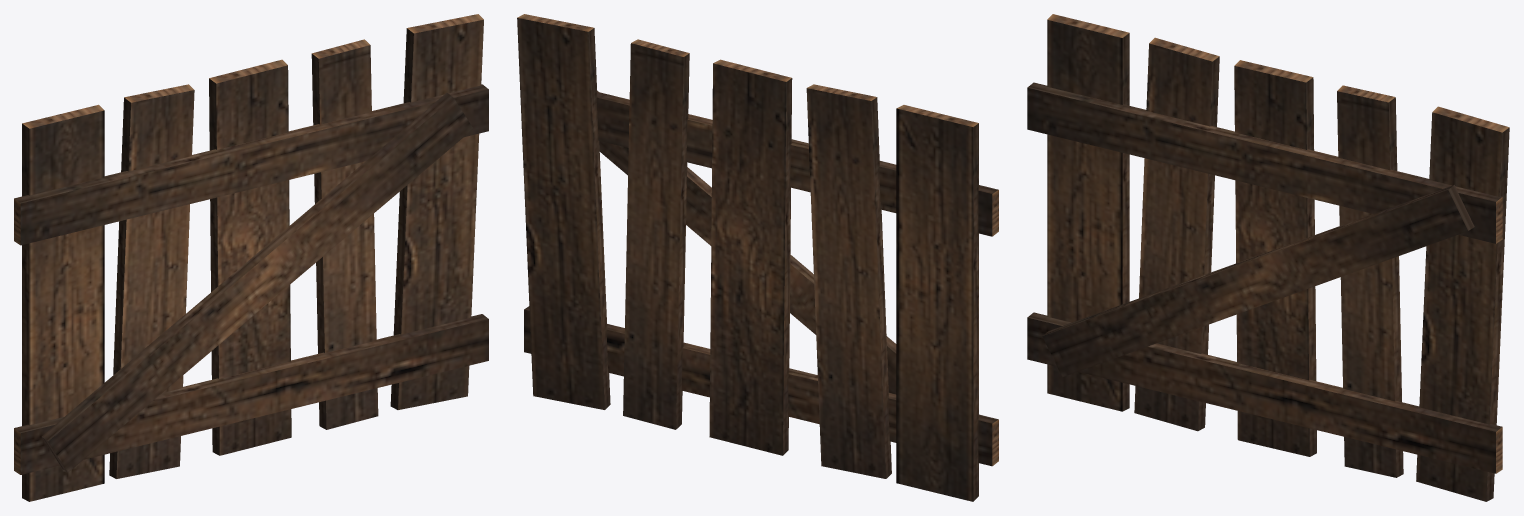
File: wood_fence_1.fbx
The picture shows the model from 3 angles, left to right: view 1: azimuth 30°, elevation 25°; view 2: azimuth 150°, elevation 25°; view 3: azimuth 330°, elevation 25°; orthographic projection.
Visible parts, largest first — view 1: wood_fence_1; view 2: wood_fence_1; view 3: wood_fence_1.
Boxes of the visible parts, <box> form: wood_fence_1: <box>14,14,488,501</box>; wood_fence_1: <box>517,14,998,501</box>; wood_fence_1: <box>1027,14,1509,501</box>.
Bounding box in the file's own units: 3.01 × 2.31 × 0.2031.
